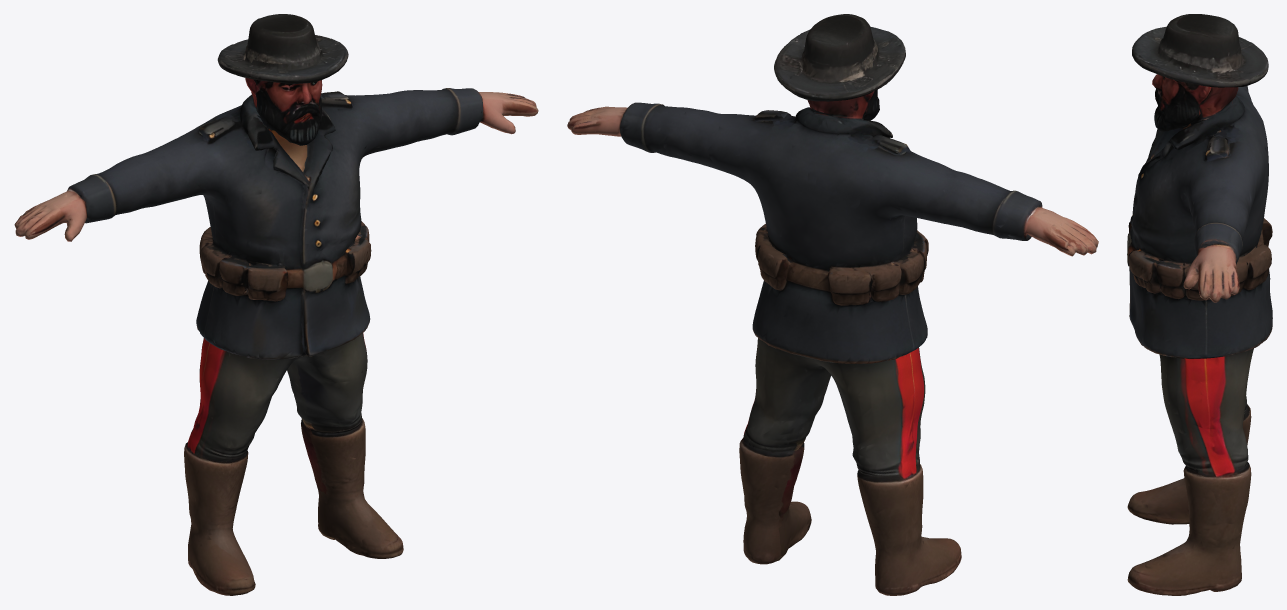
Rendered from soldado_3_mixamo.fbx.
The picture shows the model from 3 angles, left to right: view 1: azimuth 30°, elevation 25°; view 2: azimuth 150°, elevation 25°; view 3: azimuth 270°, elevation 25°; orthographic projection.
Parts seen in each view (by area): view 1: soldado_3; view 2: soldado_3; view 3: soldado_3.
Boxes of the visible parts, x1,y1,x2,y2 form: soldado_3: [14, 14, 538, 595]; soldado_3: [567, 14, 1098, 595]; soldado_3: [1127, 14, 1272, 595].
Size of the model in its own units: 172 by 169 by 42.03.
Materials: 1 (1 with a texture image).
